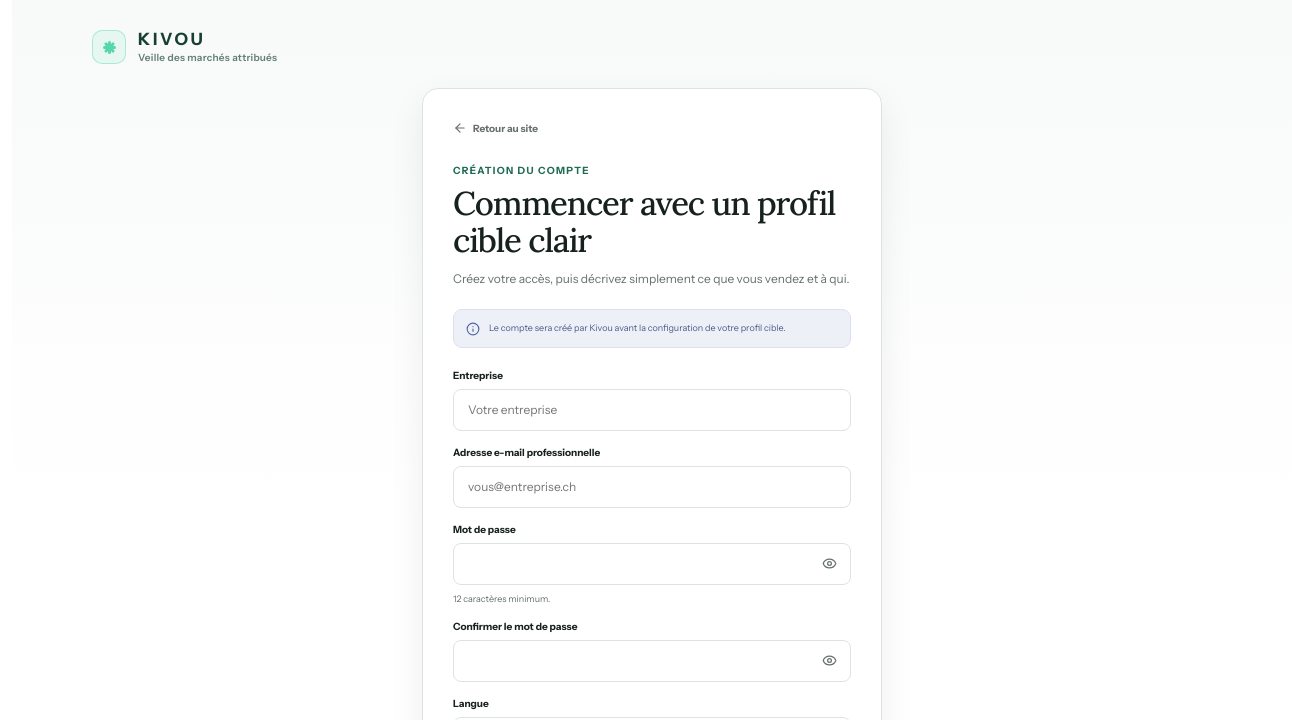
Test case: parcours d’entrée de la référence connectée › inscrit en français sans stockage de démonstration ni sélecteur de langue
This screenshot has width=1292, height=720.
expect the heading "Commencer avec un profil cible clair" is shown: met, box [453,185,851,259]
In the field labelled "Entreprise": point(652, 410) [453,388,851,430], type "Entreprise Test"
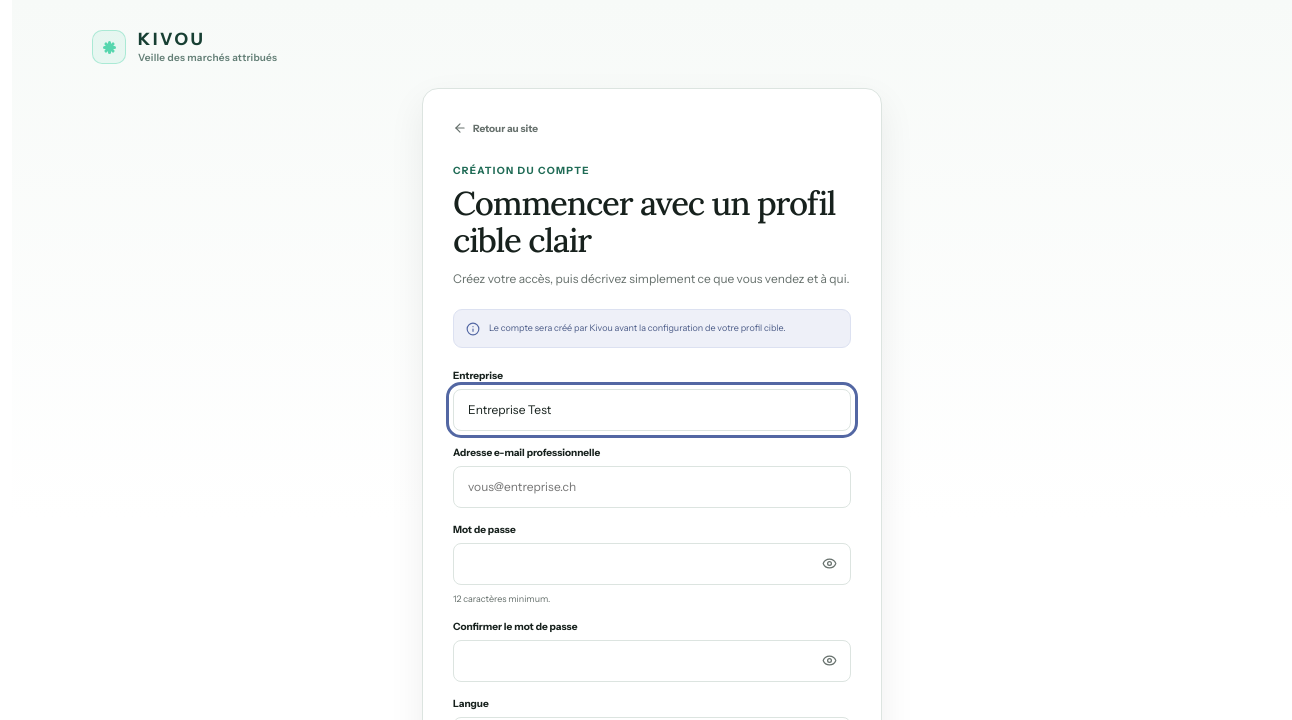
In the field labelled "Adresse e-mail professionnelle": point(652, 486) [453,466,851,508], type "test@example.test"
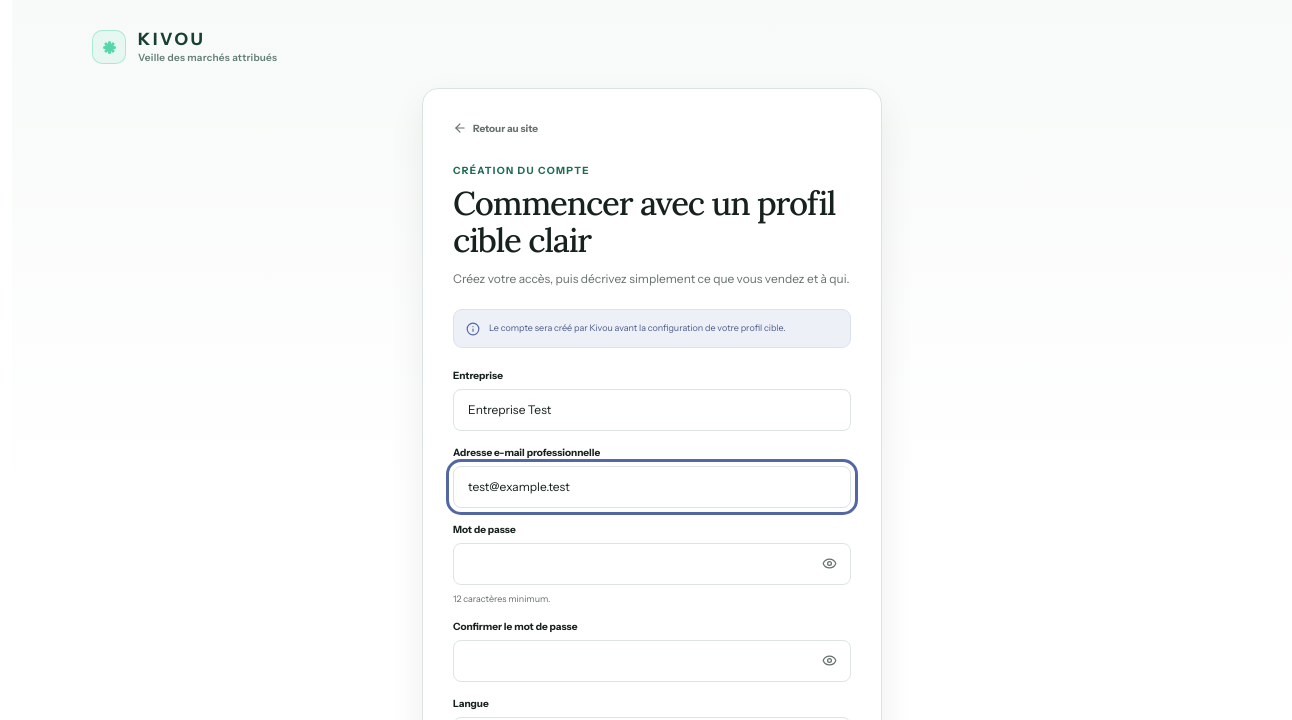
In the password field labelled "Mot de passe": point(652, 564) [453,542,851,584], type "correct-password"
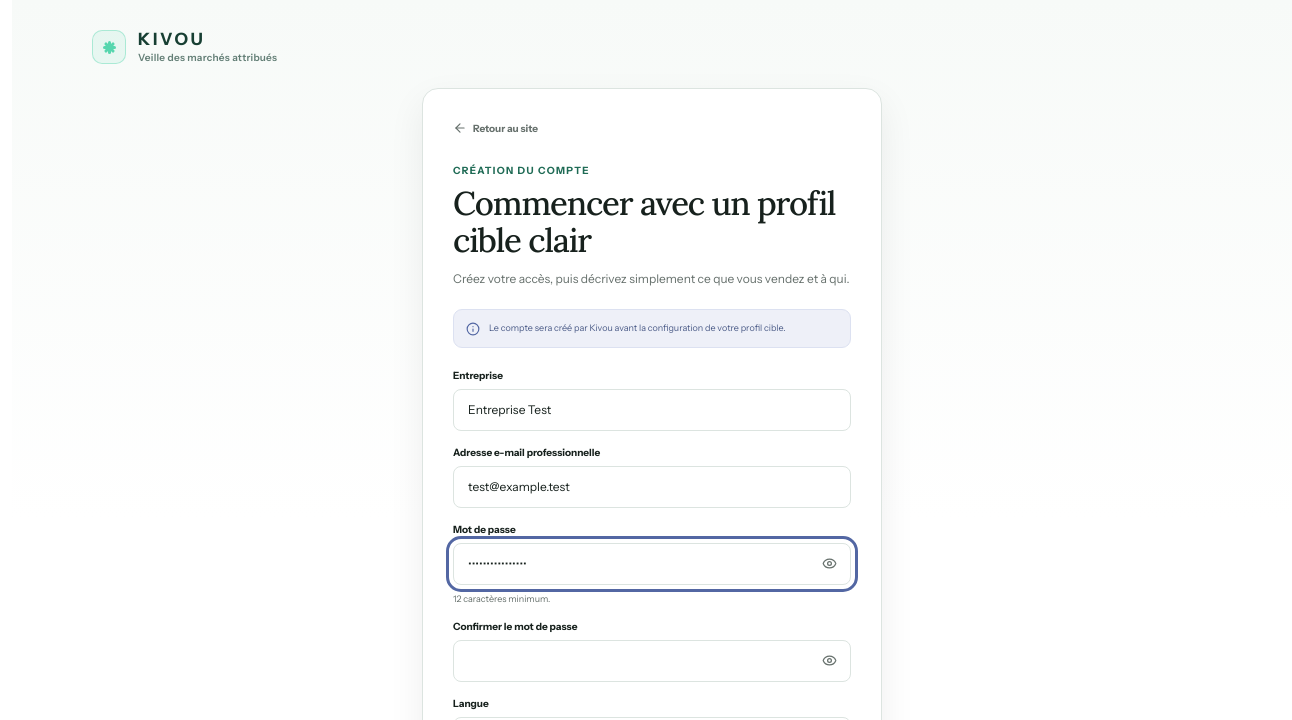
In the password field labelled "Confirmer le mot de passe": point(652, 661) [453,640,851,682], type "correct-password"
(page scrolled)
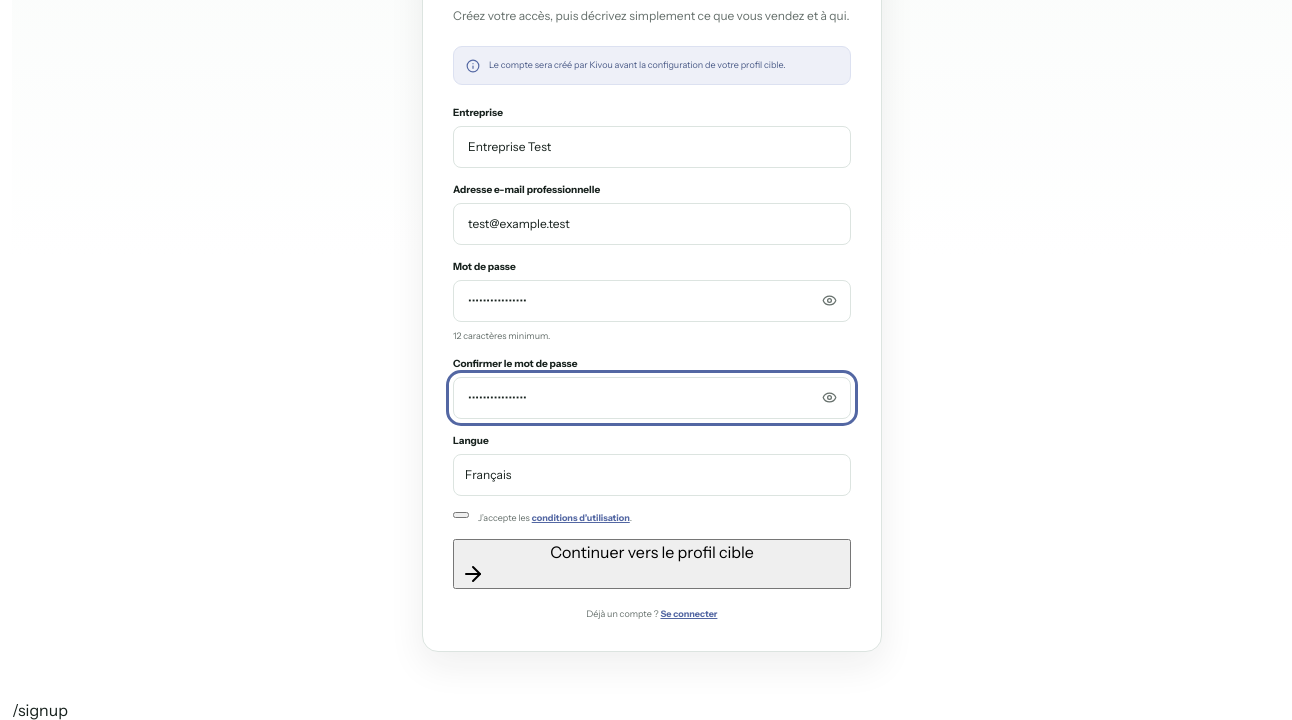
Click the checkbox: point(461, 515) [453,512,469,518]
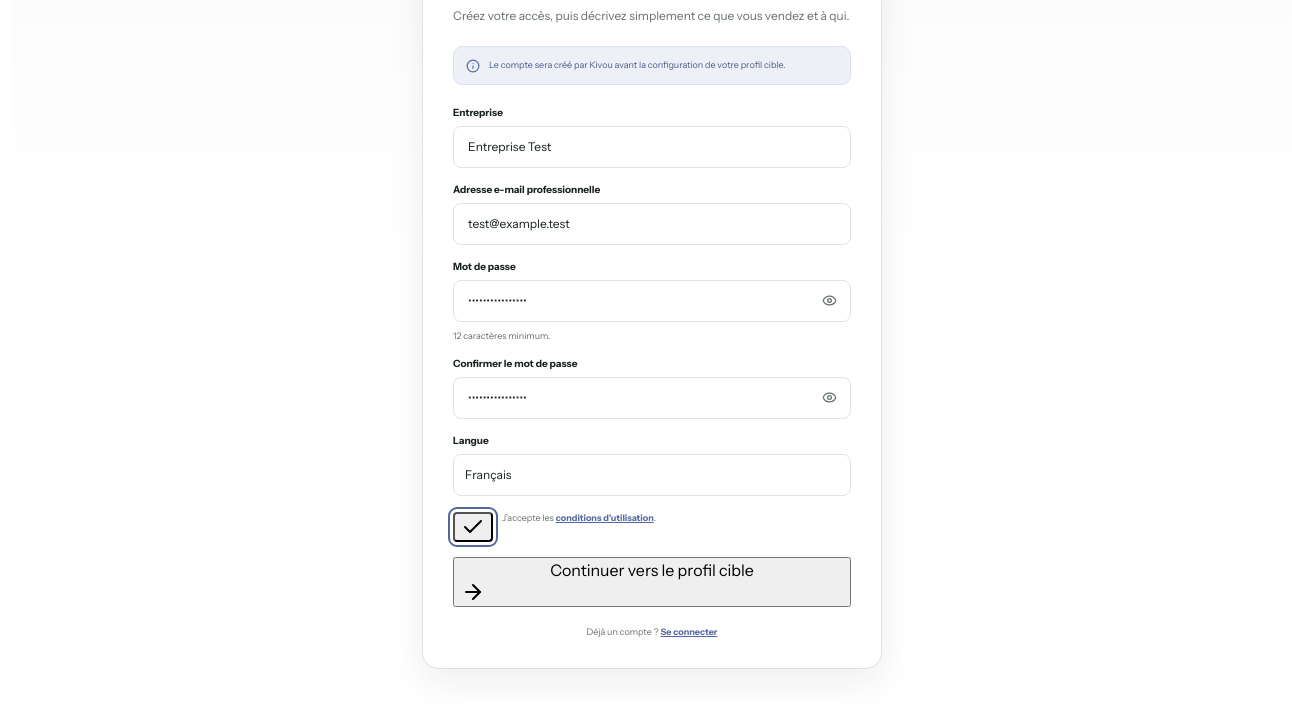
Click the button "Continuer vers le profil cible": point(652, 582) [453,557,851,607]
(page scrolled)
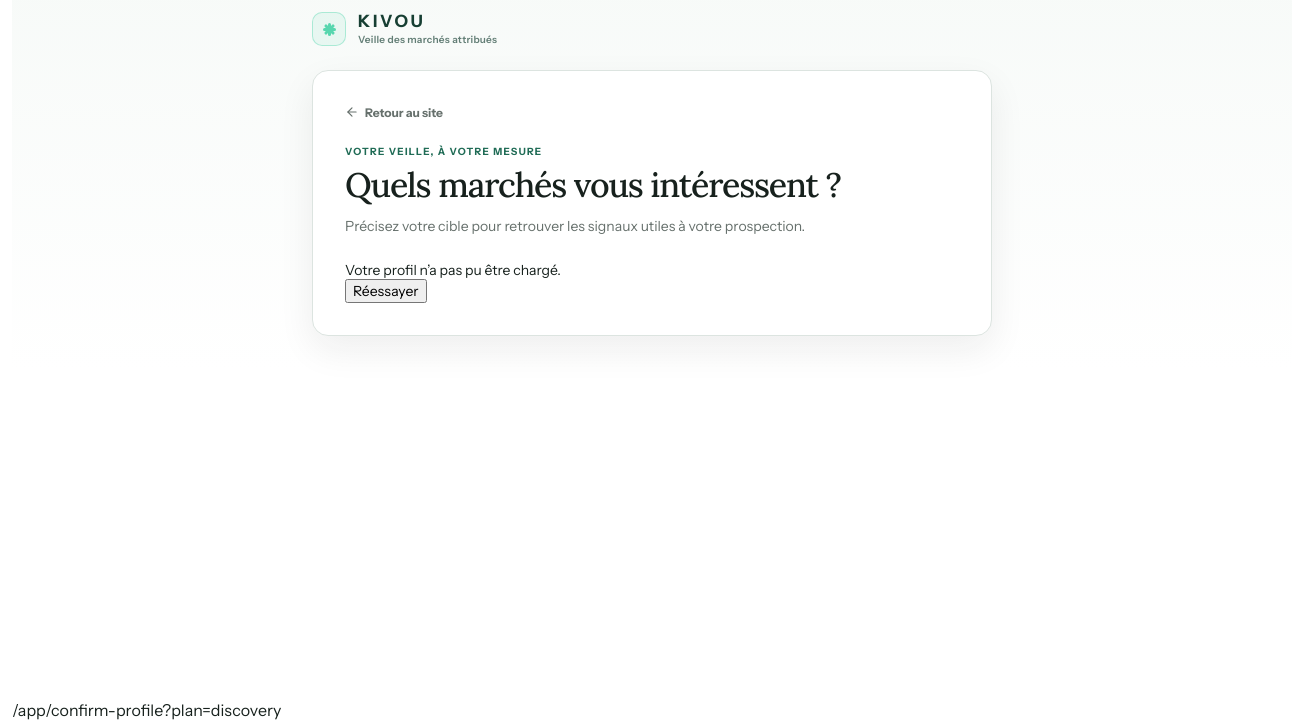
expect the heading "Quels marchés vous intéressent ?" is shown: met, box [345,163,841,206]
expect the text with test id "location" reads "/app/confirm-profile?plan=discovery": met, box [12,700,281,719]
